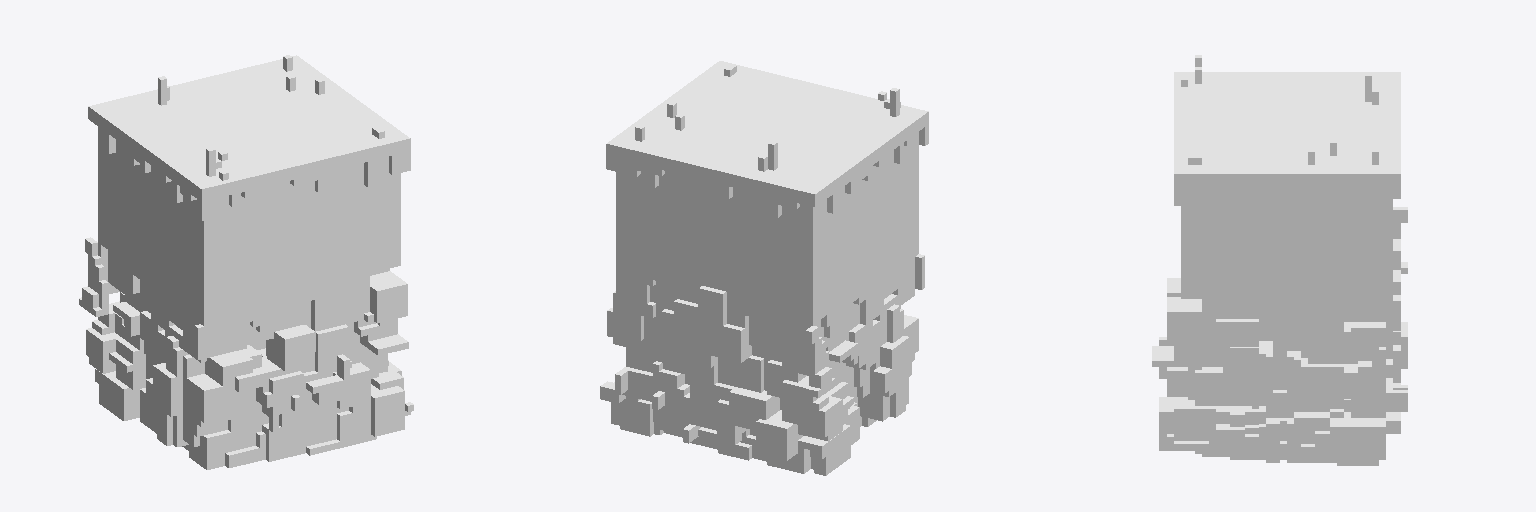
The model's file is island2.obj.
3 renders of one model, left to right at view 1: azimuth 30°, elevation 25°; view 2: azimuth 150°, elevation 25°; view 3: azimuth 270°, elevation 25°, orthographic.
Visible parts, largest first — view 1: object 1; view 2: object 1; view 3: object 1.
Part boxes in pixels (x1,y1,x2,y2): object 1: (79, 55, 413, 469); object 1: (600, 61, 928, 475); object 1: (1152, 55, 1407, 465).
Bounding box in the file's own units: 3.7 × 4.9 × 3.6.